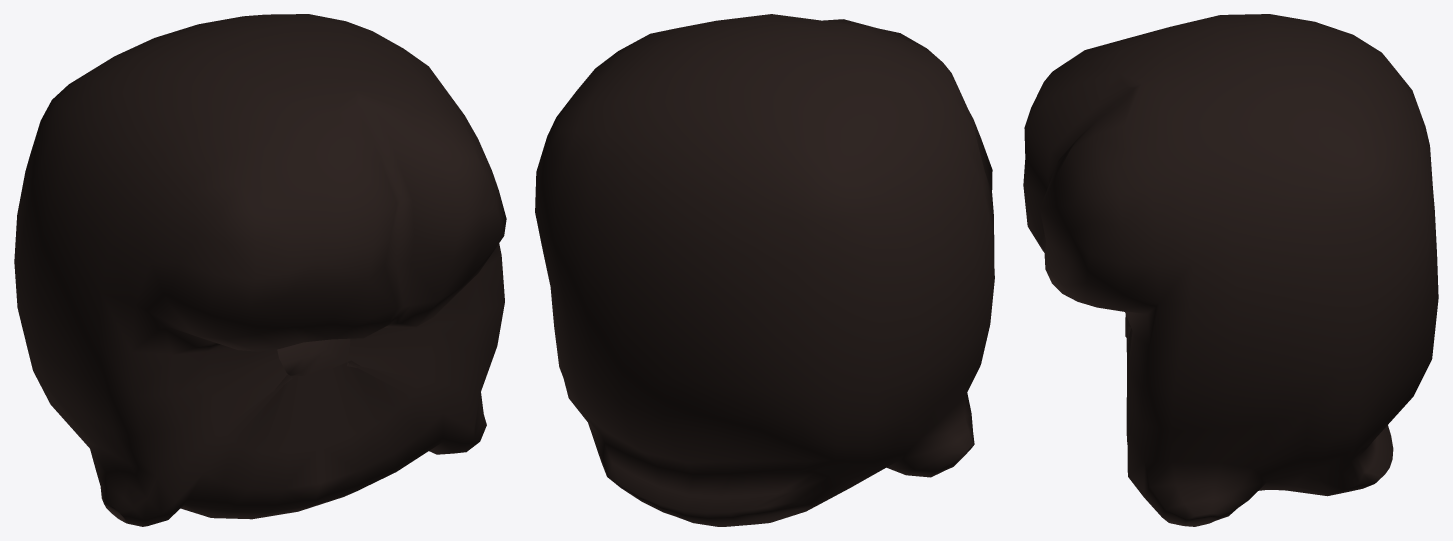
The model's file is Hair_2.fbx.
3 views of the same model, side by side, from view 1: azimuth 30°, elevation 25°; view 2: azimuth 150°, elevation 25°; view 3: azimuth 270°, elevation 25° (orthographic). The views are drawn at different scales.
Visible parts, largest first — view 1: hair_2_2; view 2: hair_2_2; view 3: hair_2_2.
Boxes of the visible parts, box(x1,y1,x2,y2) form: hair_2_2: box(14, 14, 506, 526); hair_2_2: box(535, 14, 994, 526); hair_2_2: box(1023, 14, 1438, 526).
Size of the model in its own units: 42.67 by 44.76 by 39.08.
